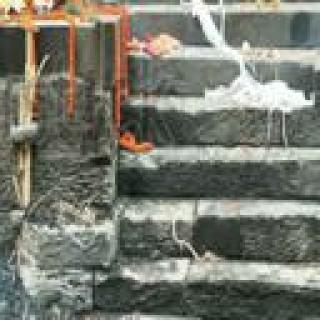fire: (0, 0, 32, 15)
